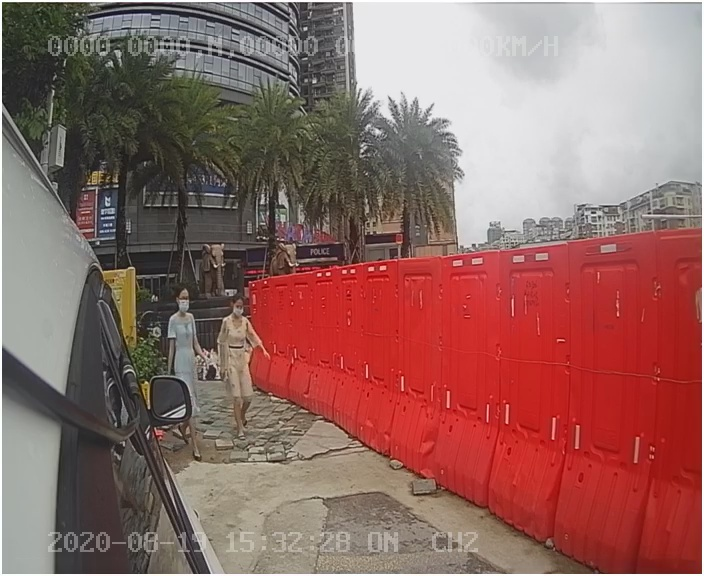person: (212, 296, 281, 441)
